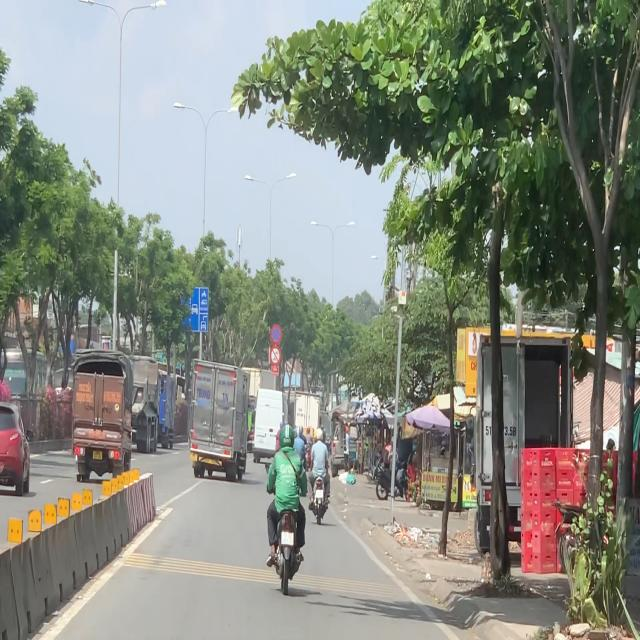Cam con lai: (270, 347, 280, 367)
Cam dung va do: (270, 324, 282, 344)
